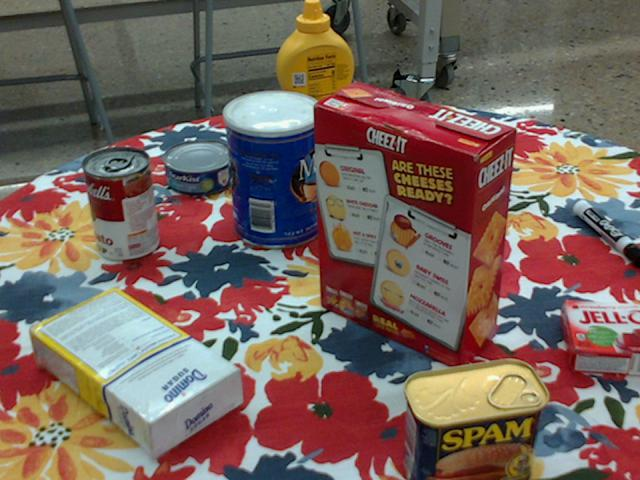cracker_box: (312, 84, 515, 373)
gelatin_box: (560, 300, 639, 373)
large_marker: (573, 198, 639, 264)
master_chef_can: (223, 89, 323, 249)
mug: (408, 117, 491, 201)
mustard_bottle: (275, 0, 355, 158)
potted_meat_can: (403, 359, 549, 479)
sugar_box: (29, 290, 242, 457)
tomato_soup_can: (82, 146, 158, 261)
tuna_fish_can: (164, 139, 236, 194)
